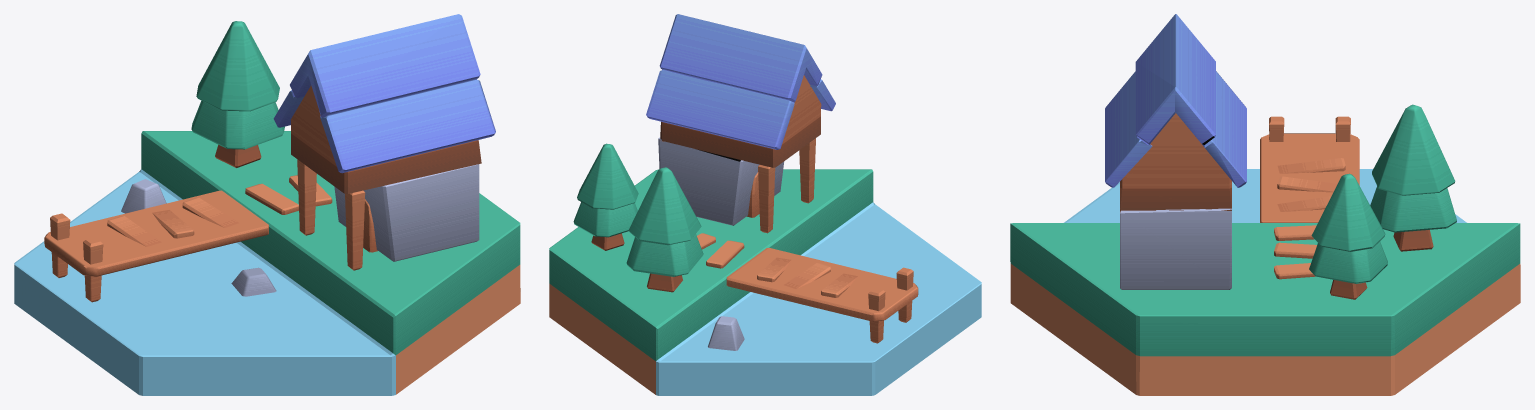
The model's file is kenney-hexagon__building-port.glb.
3 views of the same model, side by side, from view 1: azimuth 30°, elevation 25°; view 2: azimuth 150°, elevation 25°; view 3: azimuth 270°, elevation 25° (orthographic). The views are drawn at different scales.
Parts seen in each view (by area): view 1: building-port; view 2: building-port; view 3: building-port.
Boxes of the visible parts, x1,y1,x2,y2 form: building-port: (14, 14, 520, 395); building-port: (549, 14, 981, 395); building-port: (1010, 14, 1520, 395).
Bounding box in the file's own units: 1 × 0.7157 × 1.15.
Materials: 1 (1 with a texture image).
